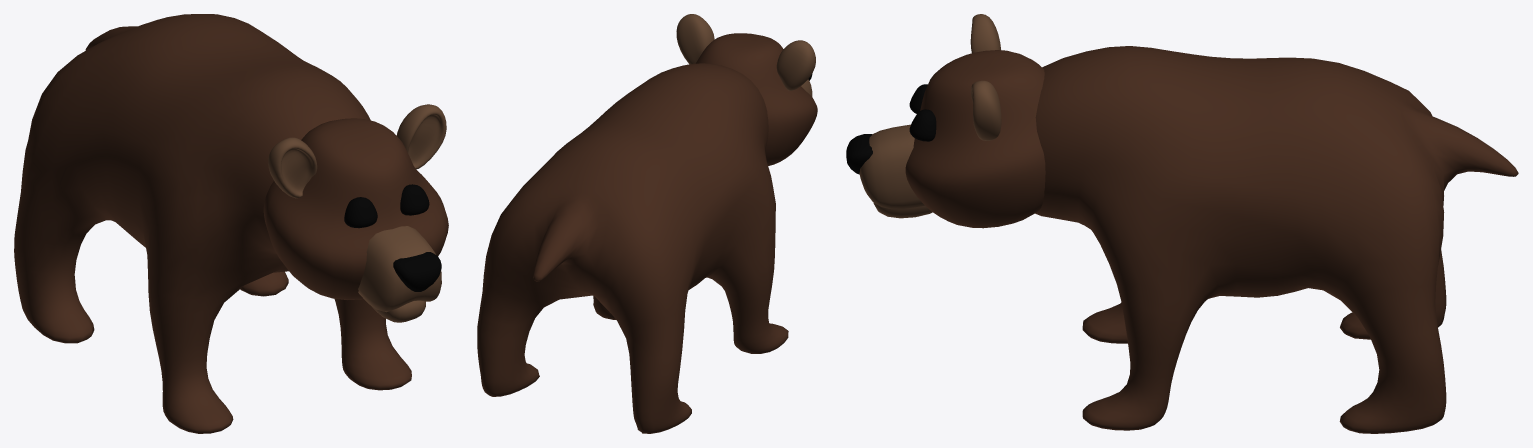
File: Bear.glb
3 renders of one model, left to right at view 1: azimuth 30°, elevation 25°; view 2: azimuth 150°, elevation 25°; view 3: azimuth 270°, elevation 25°, orthographic. The views are drawn at different scales.
Visible parts, largest first — view 1: Bear, Eyes_Bear; view 2: Bear; view 3: Bear, Eyes_Bear.
Part boxes in pixels (box(x1,y1,x2,y2)): Bear: box(14, 14, 448, 433); Eyes_Bear: box(344, 184, 429, 228); Bear: box(477, 14, 817, 433); Bear: box(846, 14, 1518, 433); Eyes_Bear: box(909, 84, 936, 141).
Bounding box in the file's own units: 1.59 × 2.01 × 3.72.
